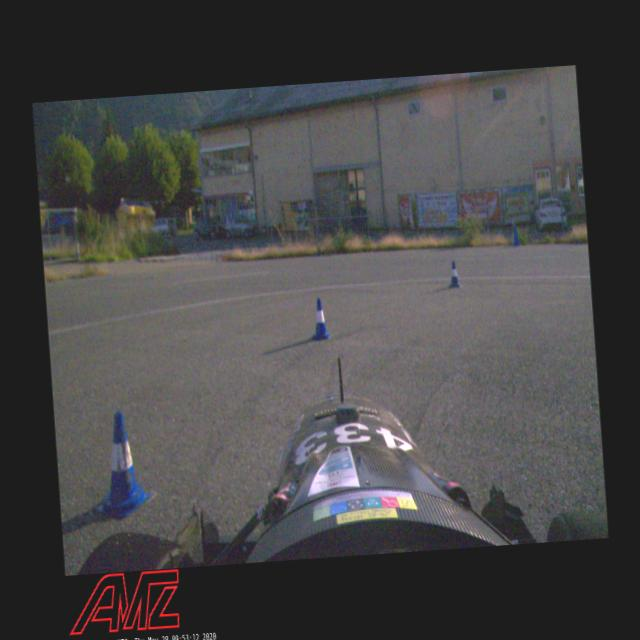blue_cone: (90, 409, 151, 518), (309, 296, 331, 340), (448, 260, 460, 288)
